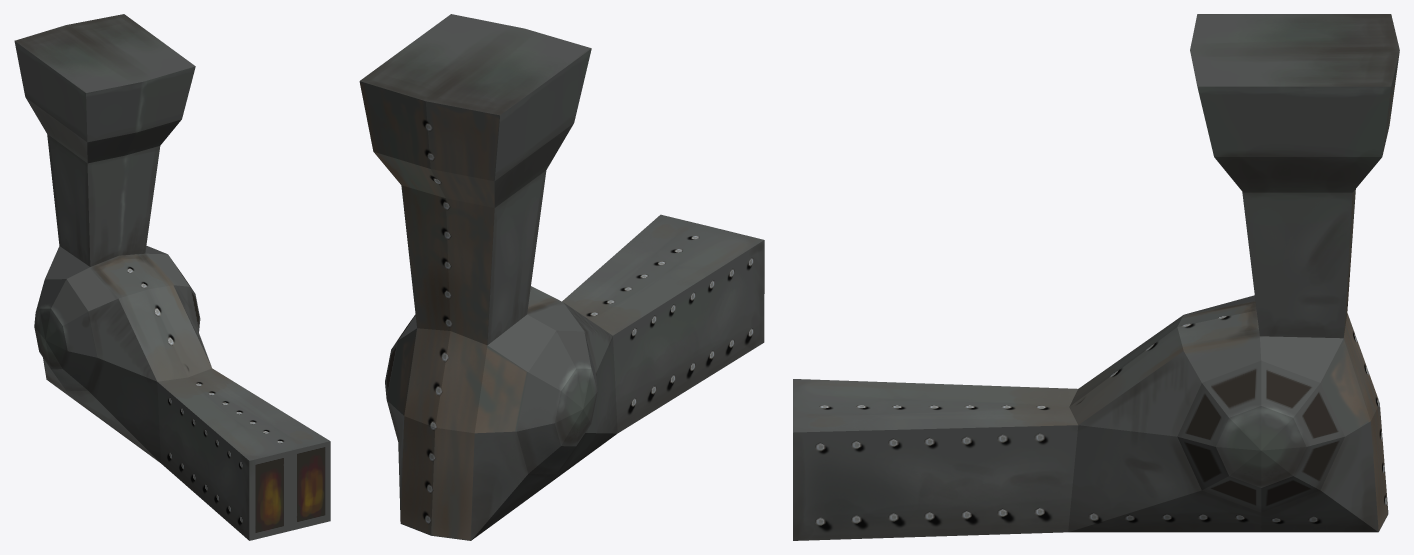
The model's file is Smoke Machine Individual.fbx.
3 renders of one model, left to right at view 1: azimuth 30°, elevation 25°; view 2: azimuth 150°, elevation 25°; view 3: azimuth 270°, elevation 25°, orthographic. The views are drawn at different scales.
Parts seen in each view (by area): view 1: polySurface2; view 2: polySurface2; view 3: polySurface2.
Boxes of the visible parts, left/top/right/bottom form: polySurface2: left=14, top=14, right=330, bottom=540; polySurface2: left=359, top=14, right=764, bottom=540; polySurface2: left=793, top=14, right=1399, bottom=540.
Bounding box in the file's own units: 10.42 × 23.73 × 28.13.
Materials: 1 (1 with a texture image).
